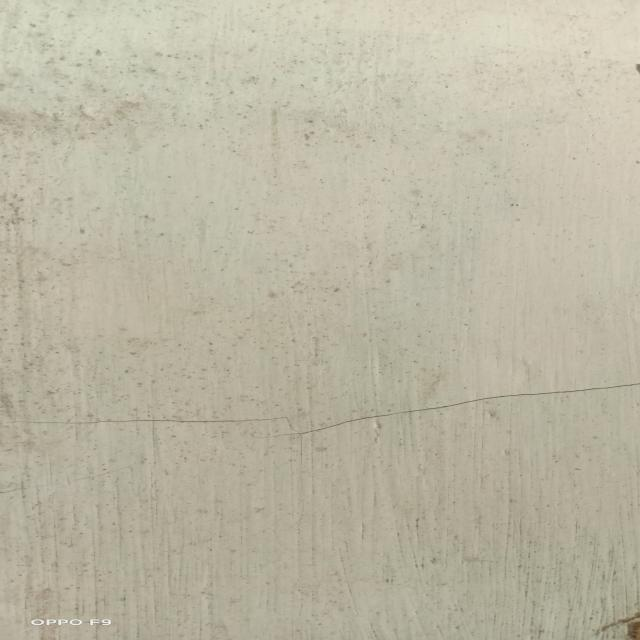Crack: (10, 404, 444, 444), (455, 382, 633, 419)
